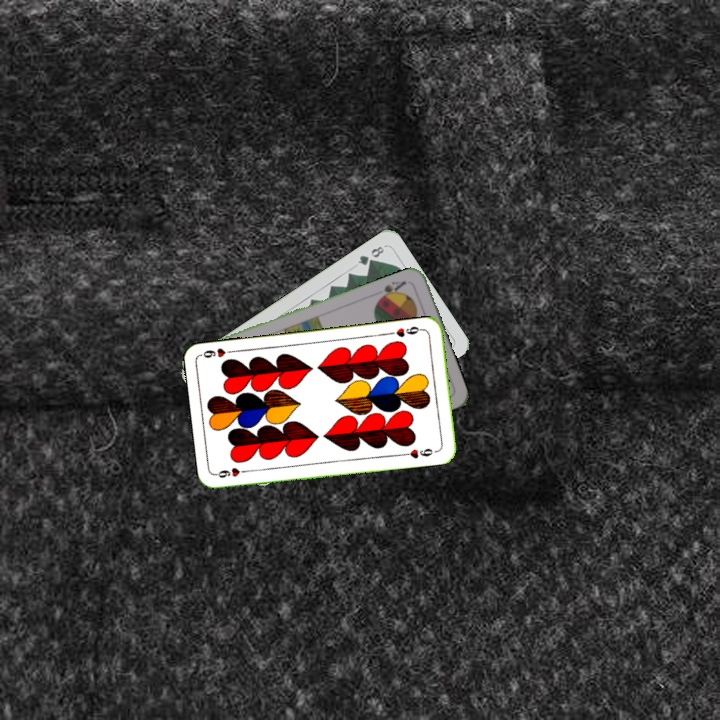G8: (354, 242, 387, 268)
H9: (212, 464, 253, 481), (386, 322, 426, 339)
SA: (374, 276, 409, 303)
